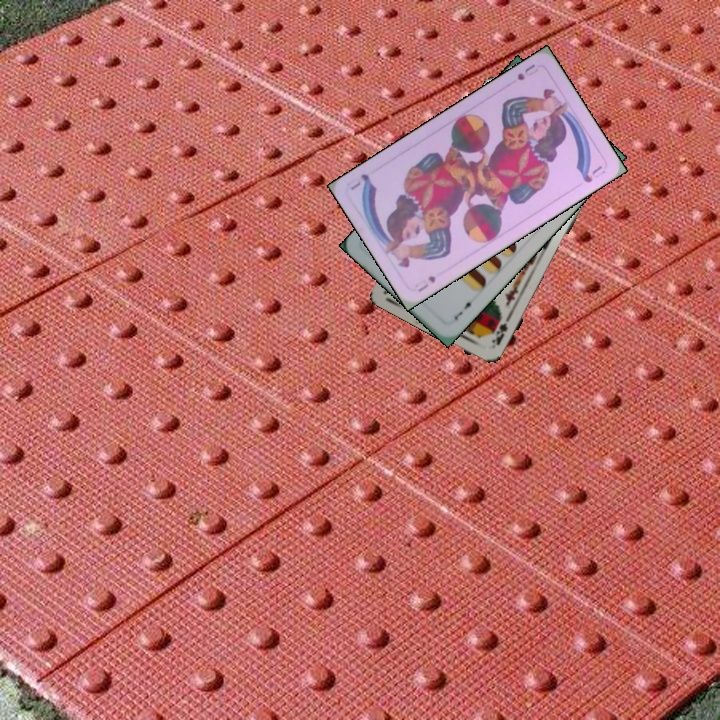E7: (450, 295, 478, 323)
SK: (488, 312, 510, 348)
SU: (513, 60, 541, 83), (413, 272, 438, 295)
